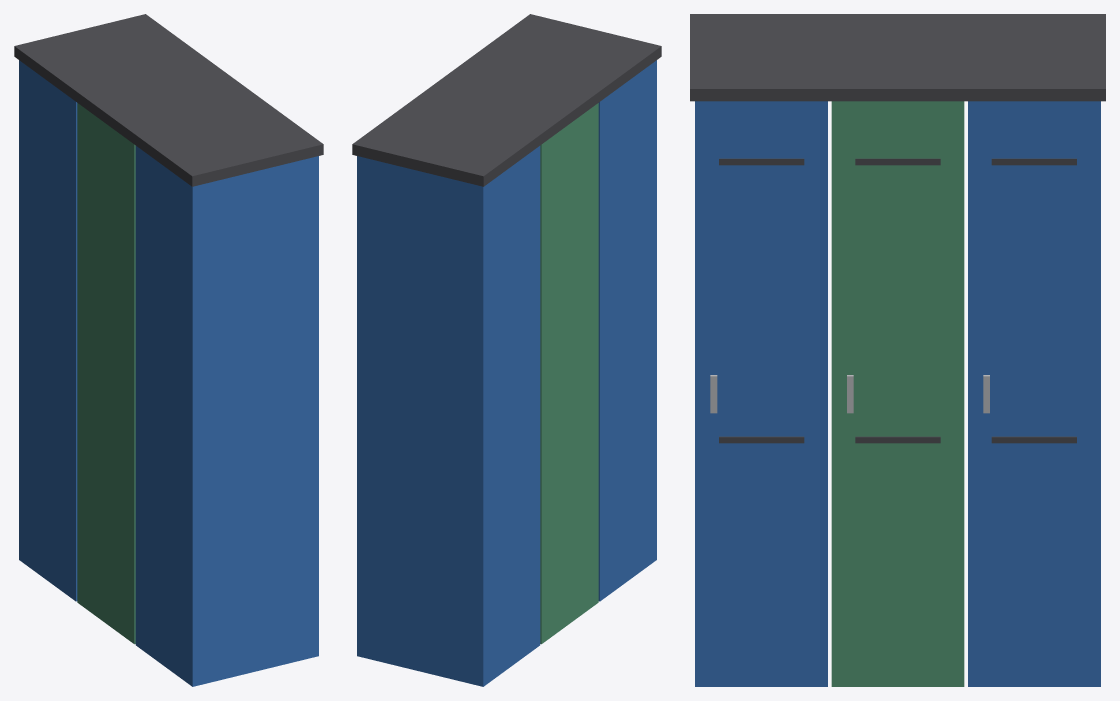
The model's file is SM_Prop_Locker.glb.
3 renders of one model, left to right at view 1: azimuth 30°, elevation 25°; view 2: azimuth 150°, elevation 25°; view 3: azimuth 270°, elevation 25°, orthographic. The views are drawn at different scales.
Visible parts, largest first — view 1: SM_Prop_Locker; view 2: SM_Prop_Locker; view 3: SM_Prop_Locker.
Part boxes in pixels (x1,y1,x2,y2): SM_Prop_Locker: (14,14,323,686); SM_Prop_Locker: (352,14,661,686); SM_Prop_Locker: (690,14,1105,686).
Size of the model in its own units: 0.52 by 1.94 by 1.22.
